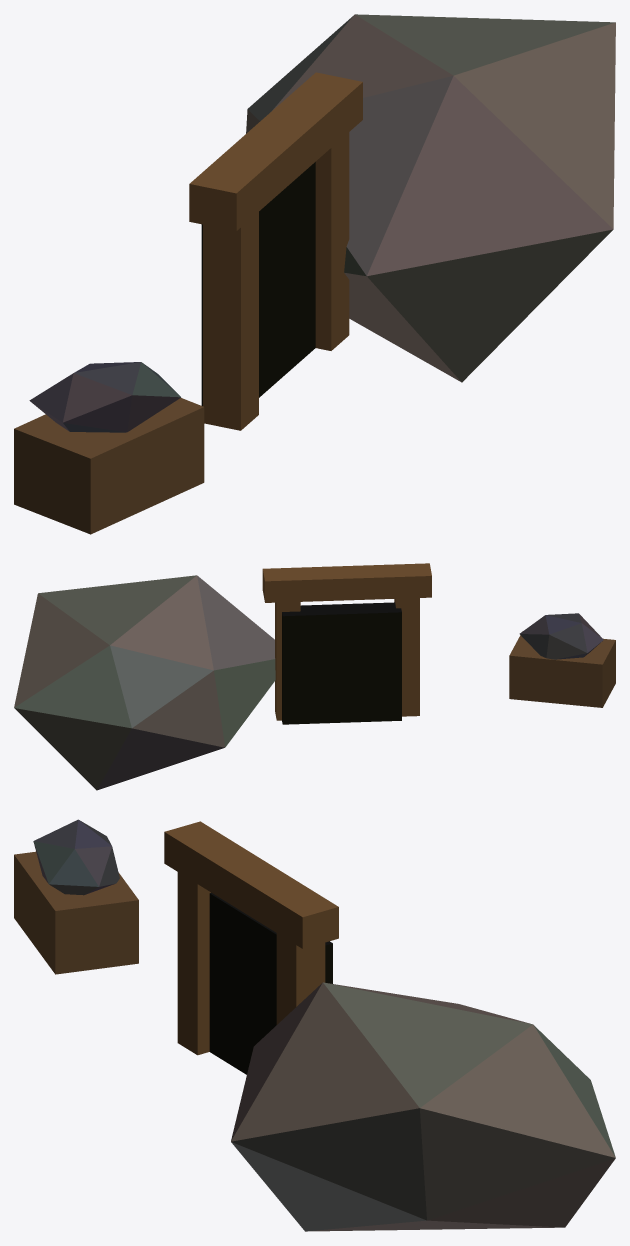
The model's file is Mine.glb.
3 renders of one model, top to bottom at view 1: azimuth 30°, elevation 25°; view 2: azimuth 150°, elevation 25°; view 3: azimuth 270°, elevation 25°, orthographic. The views are drawn at different scales.
Visible parts, largest first — view 1: Mine; view 2: Mine; view 3: Mine.
Boxes of the visible parts, x1,y1,x2,y2 form: Mine: [14, 14, 615, 534]; Mine: [14, 563, 615, 790]; Mine: [14, 819, 615, 1231].
Size of the model in its own units: 0.4387 by 0.1722 by 0.3438.
